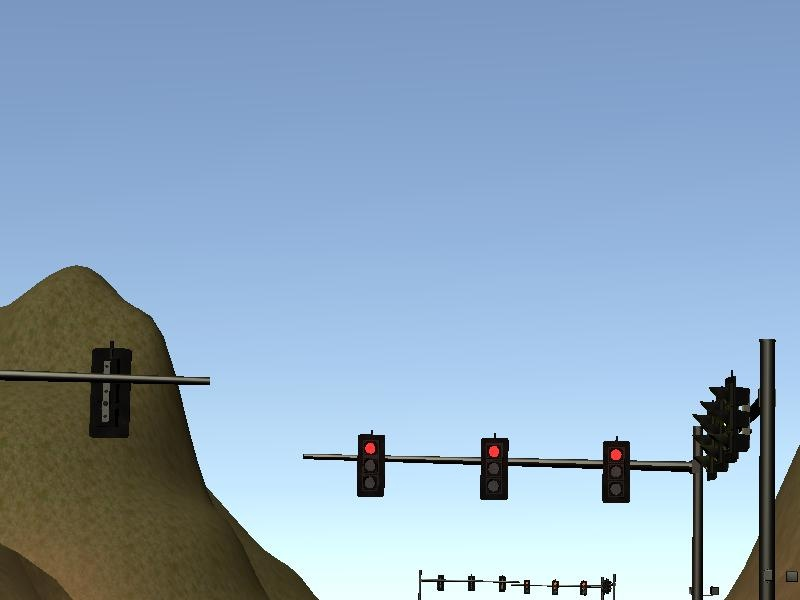red: (356, 432, 388, 498), (604, 436, 634, 505), (480, 436, 508, 504)
